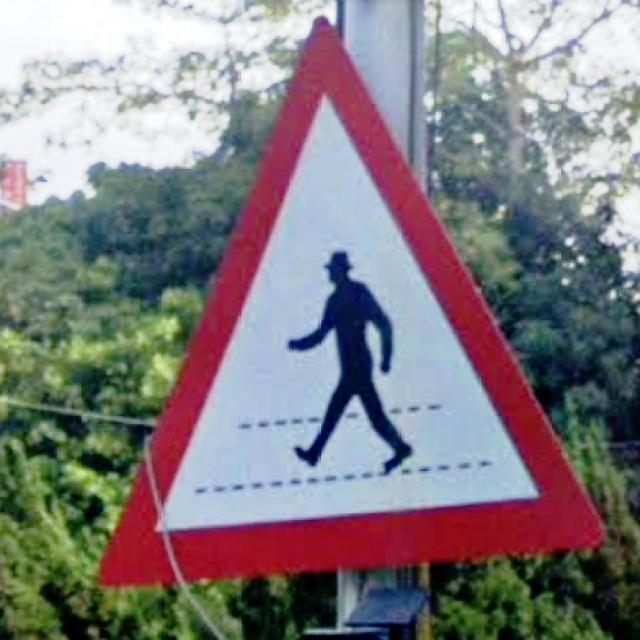pedestriancross: (97, 16, 604, 588)
